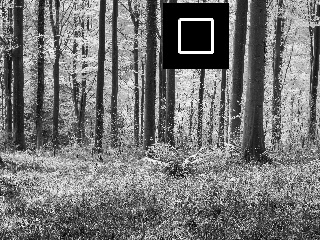square: (163, 3, 229, 69)
